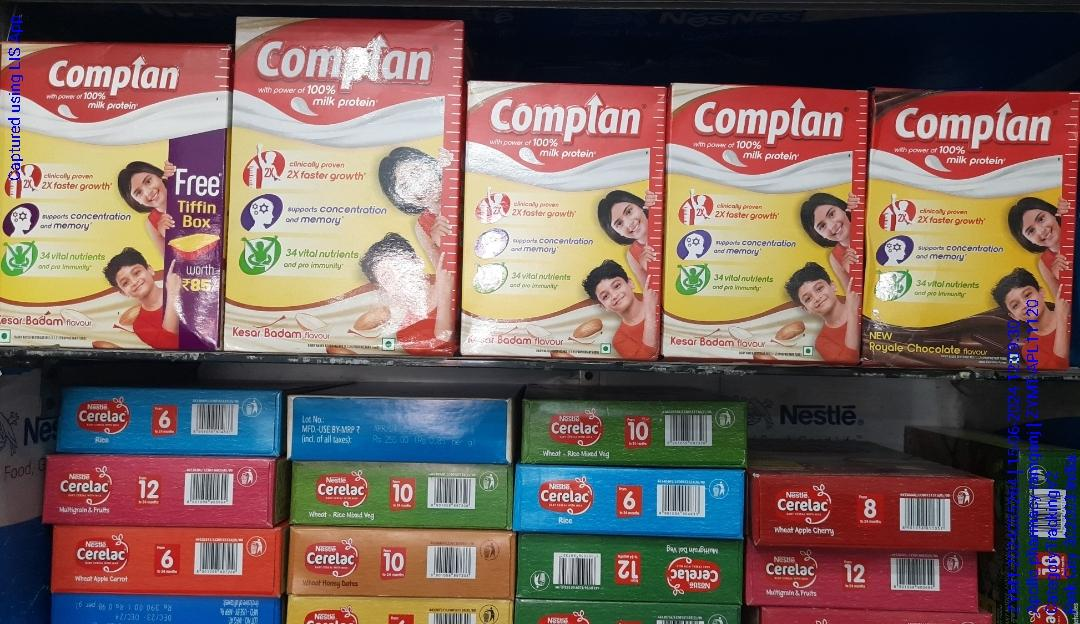COMPLAN_CHOCOLATE_200_GMS_PACK: (867, 87, 1076, 371)
COMPLAN_KESAR_BADAM_200_GMS_PACK: (464, 83, 654, 359), (668, 85, 856, 358)
COMPLAN_KESAR_BADAM_500_GMS_PACK: (233, 16, 458, 350), (0, 48, 227, 345)
